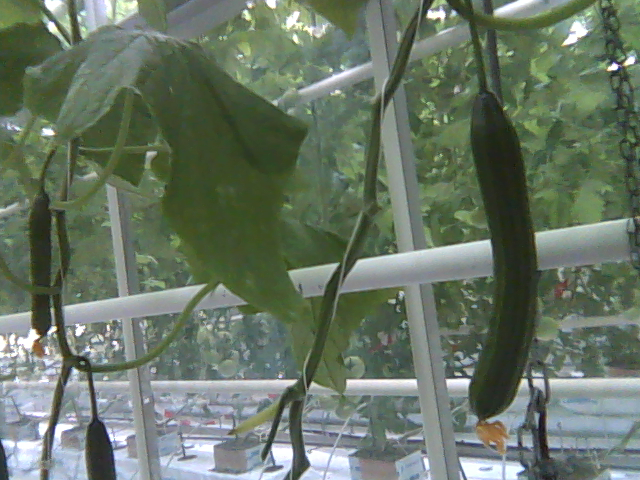concombre: (464, 80, 542, 456), (81, 417, 121, 480)
